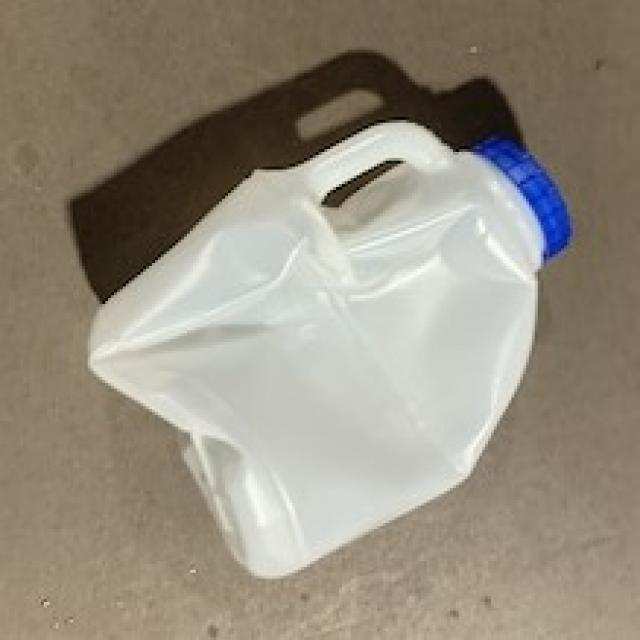HDPE Plastic: (82, 110, 574, 586)
